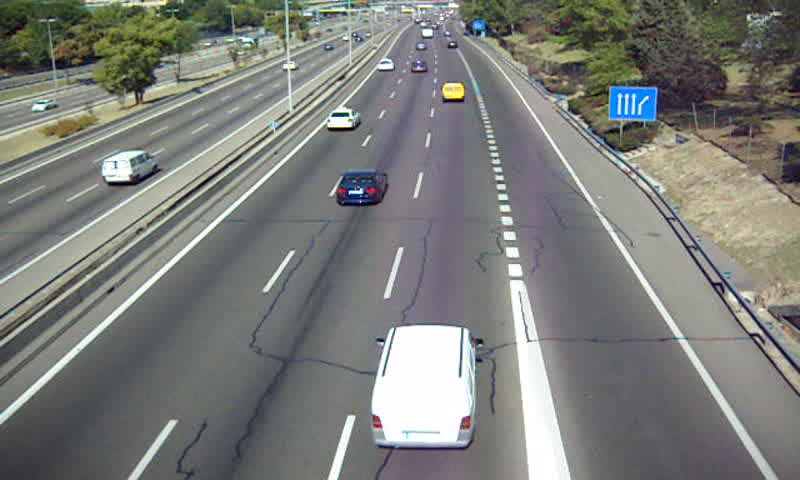car: (334, 168, 386, 206), (324, 109, 361, 129), (409, 59, 428, 74), (376, 58, 394, 72)
van: (372, 324, 477, 447), (441, 82, 465, 101)
